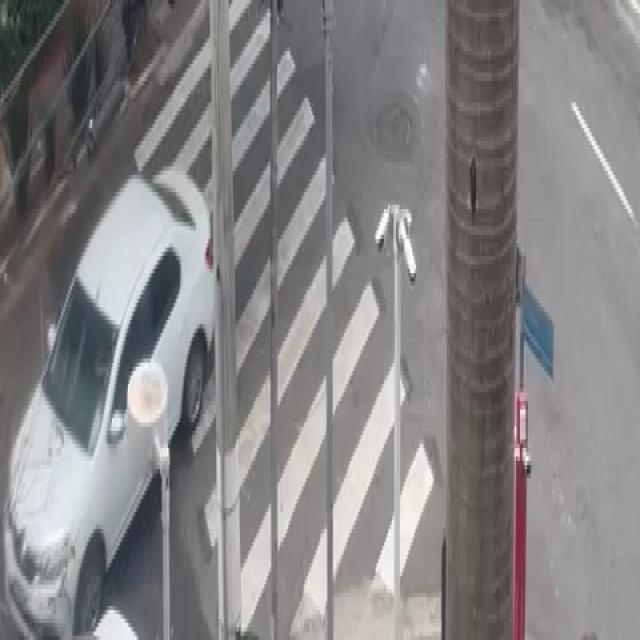car: (2, 149, 237, 640)
